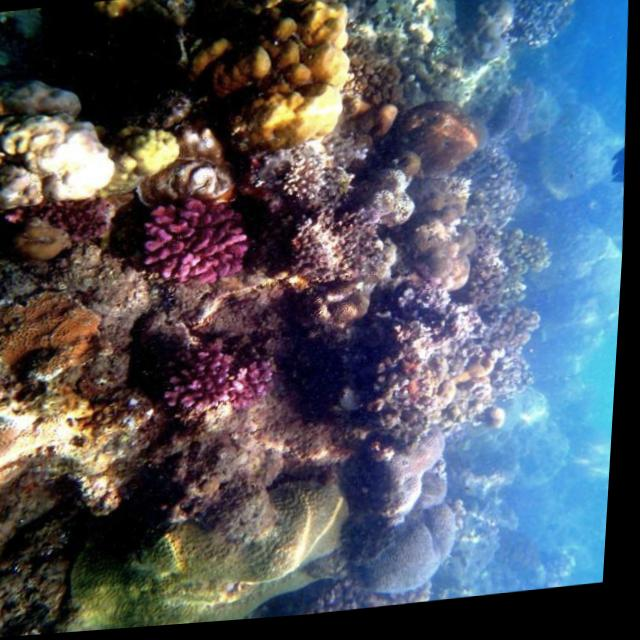Healthy Coral: (177, 6, 377, 161), (115, 187, 263, 307), (142, 343, 292, 440), (0, 294, 114, 394), (32, 191, 114, 258)
